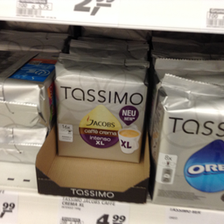coffee: (54, 53, 149, 163), (149, 78, 224, 204)
